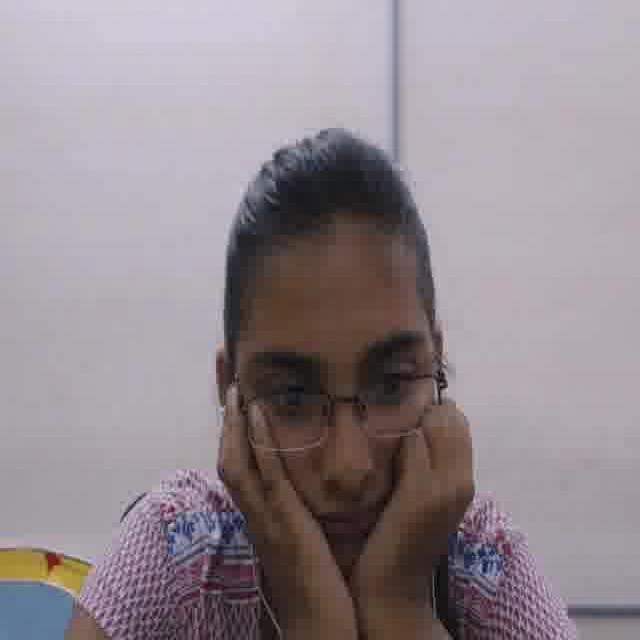Frustration: (234, 229, 441, 600)
